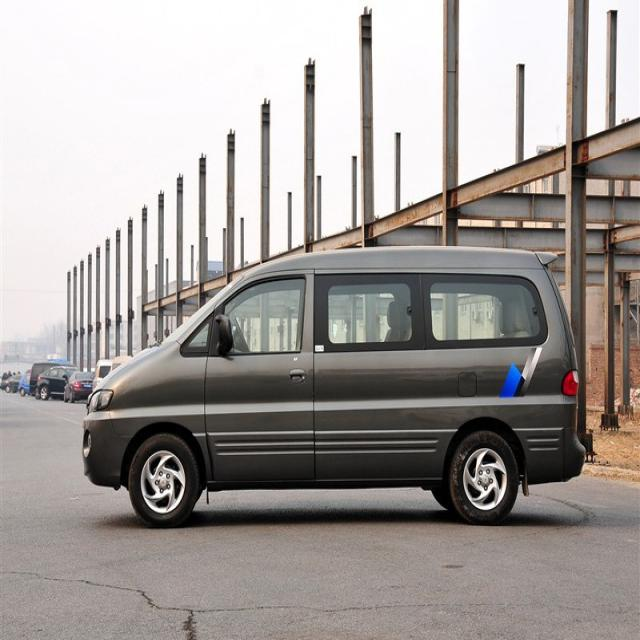back_left_side_light: (561, 367, 580, 398)
door: (308, 265, 439, 477)
front_left_side_door: (203, 266, 316, 486)
front_left_side_light: (87, 387, 115, 418)
front_left_side_mirror: (214, 313, 233, 357)
wheel: (128, 431, 199, 528), (449, 429, 519, 525)
